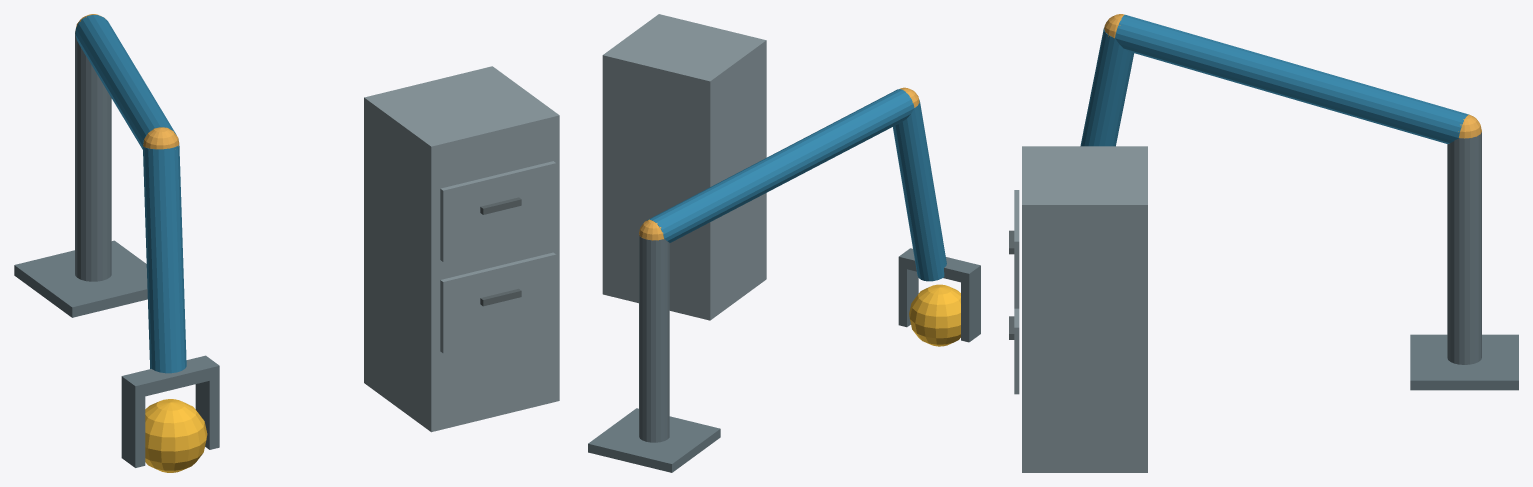
3 renders of one model, left to right at view 1: azimuth 30°, elevation 25°; view 2: azimuth 150°, elevation 25°; view 3: azimuth 270°, elevation 25°, orthographic. The views are drawn at different scales.
Parts seen in each view (by area): view 1: cabinet_1 body, cabinet_1 drawer front, cabinet_1 drawer front.001, moving link 2, fixed post, pedestal, moving link 1, ball ball_1, gripper bridge, gripper finger -1, gripper finger 1, joint 2; view 2: cabinet_1 body, moving link 1, fixed post, moving link 2, pedestal, ball ball_1, gripper finger -1, gripper bridge, gripper finger 1; view 3: cabinet_1 body, moving link 1, fixed post, pedestal, moving link 2, cabinet_1 drawer front.001.
Boxes of the visible parts, <box> form: cabinet_1 body: <box>364,66,559,432</box>; cabinet_1 drawer front: <box>440,252,556,353</box>; cabinet_1 drawer front.001: <box>440,161,556,261</box>; moving link 2: <box>143,144,186,373</box>; fixed post: <box>75,31,111,281</box>; pedestal: <box>14,240,147,317</box>; moving link 1: <box>75,14,176,149</box>; ball ball_1: <box>145,399,207,472</box>; gripper bridge: <box>121,355,219,398</box>; gripper finger -1: <box>121,389,145,467</box>; gripper finger 1: <box>195,378,219,449</box>; joint 2: <box>143,127,179,150</box>; cabinet_1 body: <box>602,14,766,320</box>; moving link 1: <box>647,89,914,242</box>; fixed post: <box>639,234,669,442</box>; moving link 2: <box>893,99,946,281</box>; pedestal: <box>588,408,720,472</box>; ball ball_1: <box>909,284,960,346</box>; gripper finger -1: <box>961,276,980,342</box>; gripper bridge: <box>898,248,980,284</box>; gripper finger 1: <box>898,267,918,327</box>; cabinet_1 body: <box>1022,146,1147,472</box>; moving link 1: <box>1115,15,1468,143</box>; fixed post: <box>1447,132,1481,364</box>; pedestal: <box>1410,334,1518,390</box>; moving link 2: <box>1080,28,1133,146</box>; cabinet_1 drawer front.001: <box>1014,190,1019,308</box>.
Bounding box in the file's own units: 1.01 × 0.7592 × 1.17.
